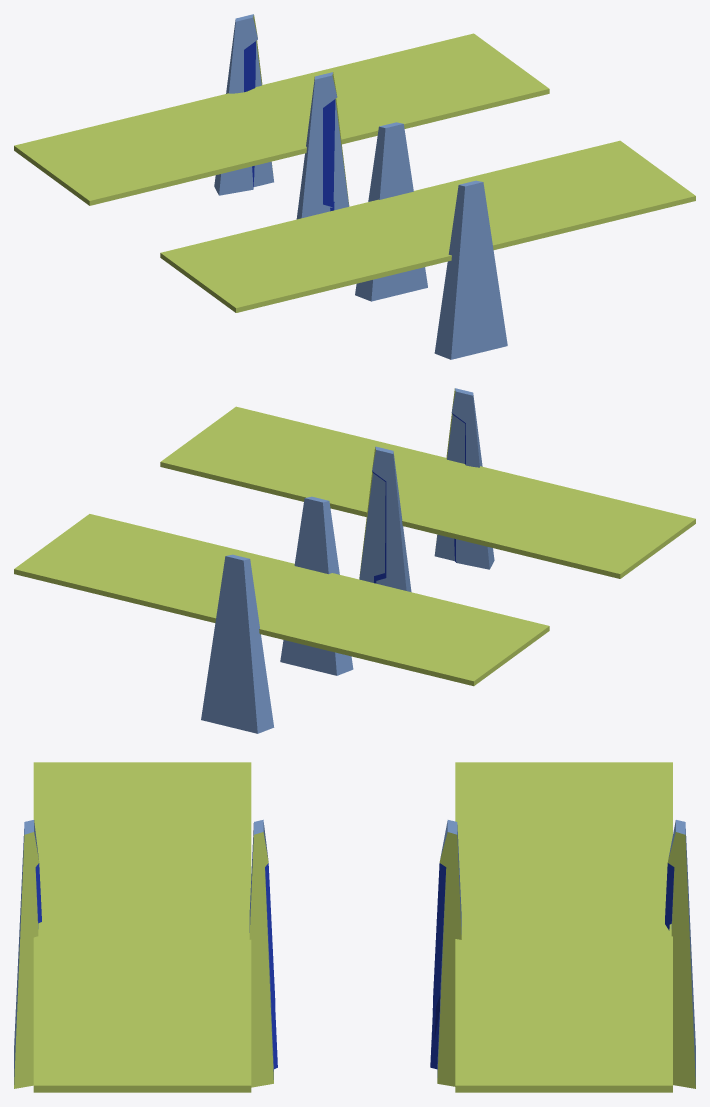
Rendered from bridge.fbx.
3 renders of one model, top to bottom at view 1: azimuth 30°, elevation 25°; view 2: azimuth 150°, elevation 25°; view 3: azimuth 270°, elevation 25°, orthographic. The views are drawn at different scales.
Visible parts, largest first — view 1: Cube.005, Cube.003, Cube.004, Cube.008, Cube, Cube.007, Cube.006; view 2: Cube.003, Cube.005, Cube.007, Cube, Cube.008, Cube.004, Cube.006; view 3: Cube.003, Cube.005, Cube, Cube.008, Cube.007, Cube.004.
Boxes of the visible parts, box(x1,y1,x2,y2) form: Cube.005: box(14, 33, 549, 205); Cube.003: box(160, 140, 695, 312); Cube.004: box(434, 180, 507, 359); Cube.008: box(296, 72, 349, 219); Cube: box(355, 122, 427, 301); Cube.007: box(214, 14, 273, 195); Cube.006: box(296, 75, 347, 219); Cube.003: box(160, 406, 695, 578); Cube.005: box(14, 514, 549, 686); Cube.007: box(201, 554, 274, 733); Cube: box(359, 446, 411, 592); Cube.008: box(280, 496, 349, 675); Cube.004: box(434, 388, 494, 569); Cube.006: box(305, 499, 353, 671); Cube.003: box(33, 762, 251, 1092); Cube.005: box(455, 762, 672, 1092); Cube: box(249, 819, 277, 1087); Cube.008: box(430, 820, 461, 1086); Cube.007: box(665, 820, 695, 1088); Cube.004: box(14, 820, 41, 1088).
Size of the model in its own units: 5000 by 1728 by 4459.
